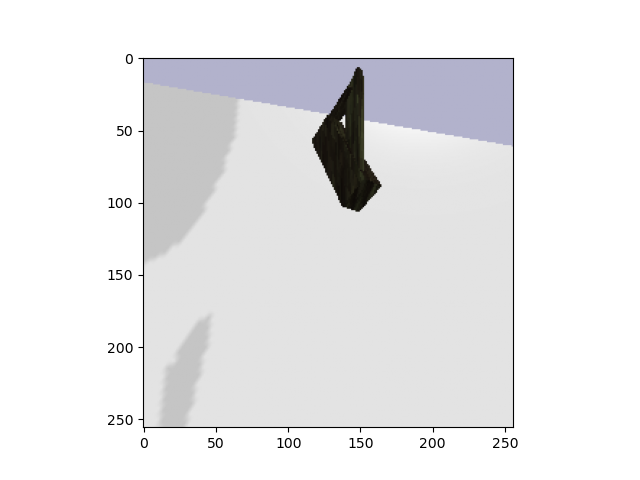v249b387_109: (301, 66, 392, 219)
